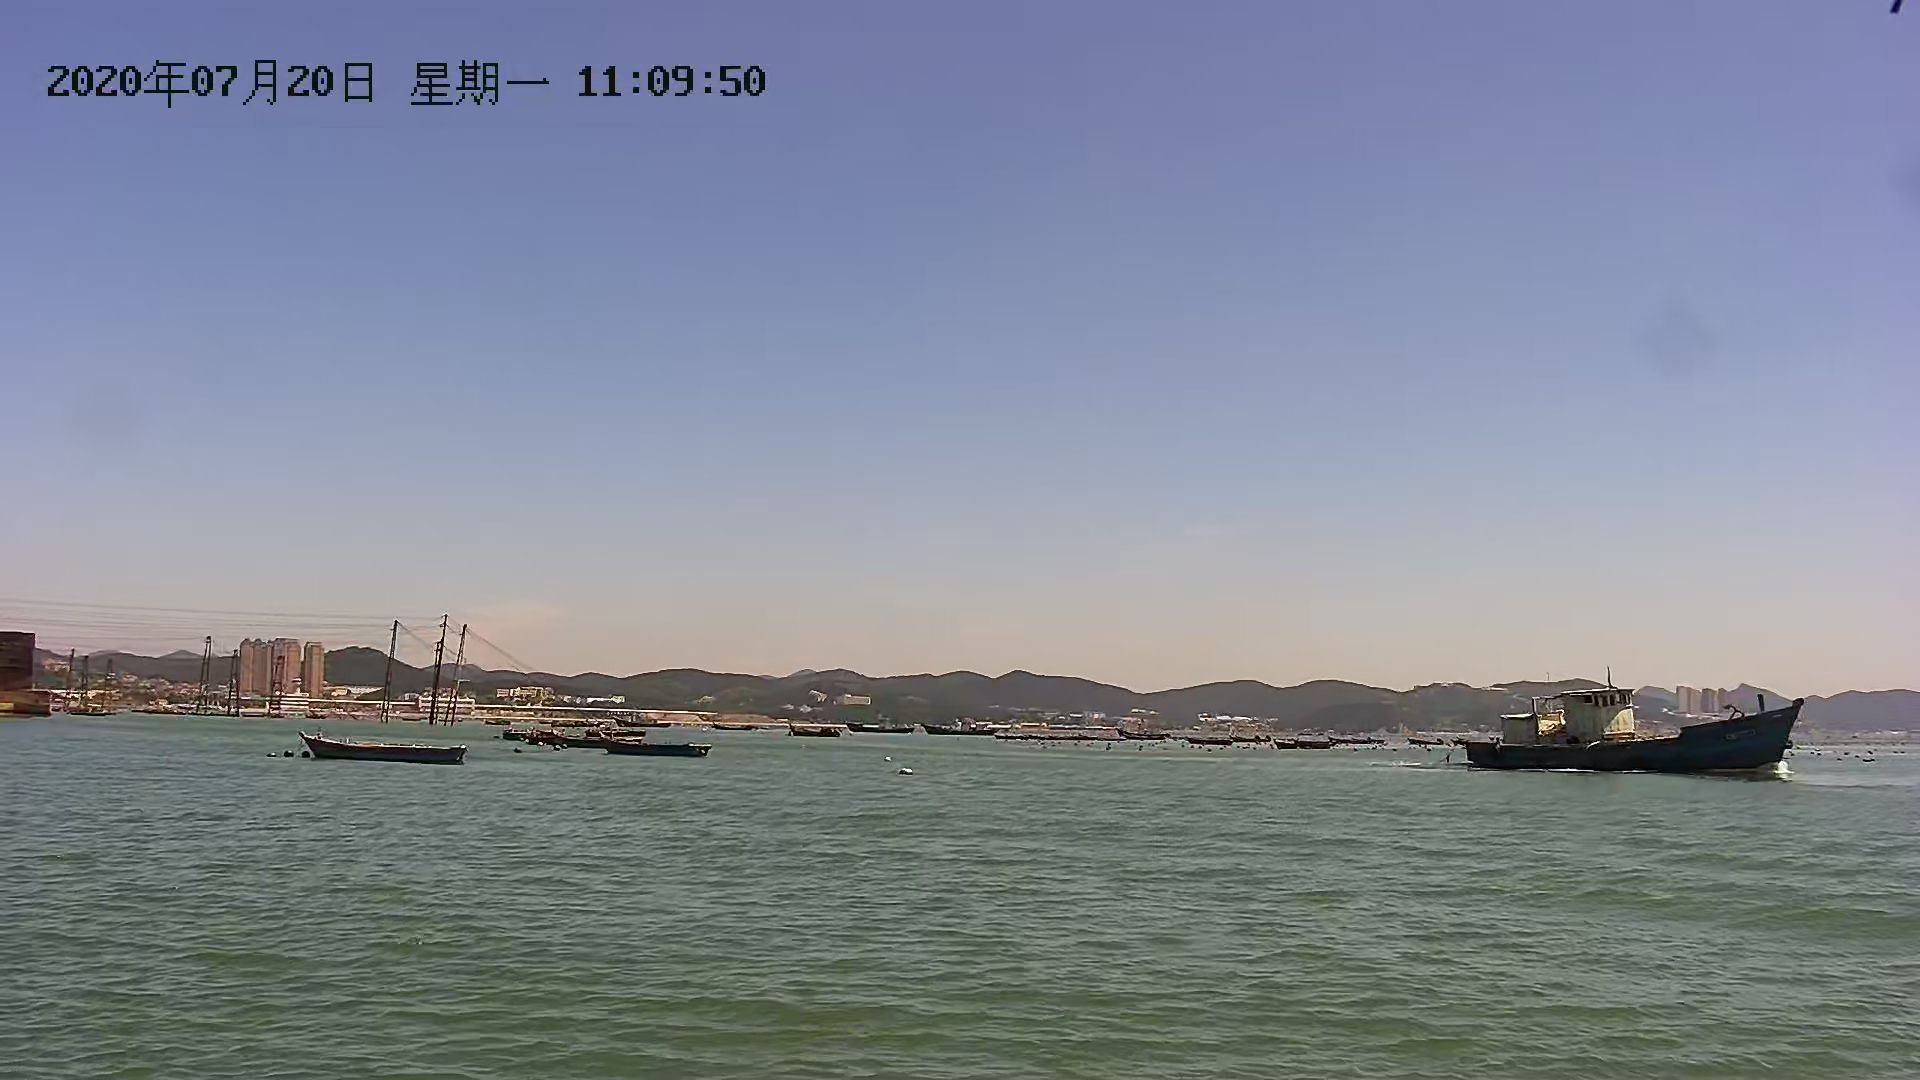boat: (305, 731, 469, 761), (604, 738, 713, 760), (512, 727, 622, 746)
ship: (1455, 684, 1807, 794)
